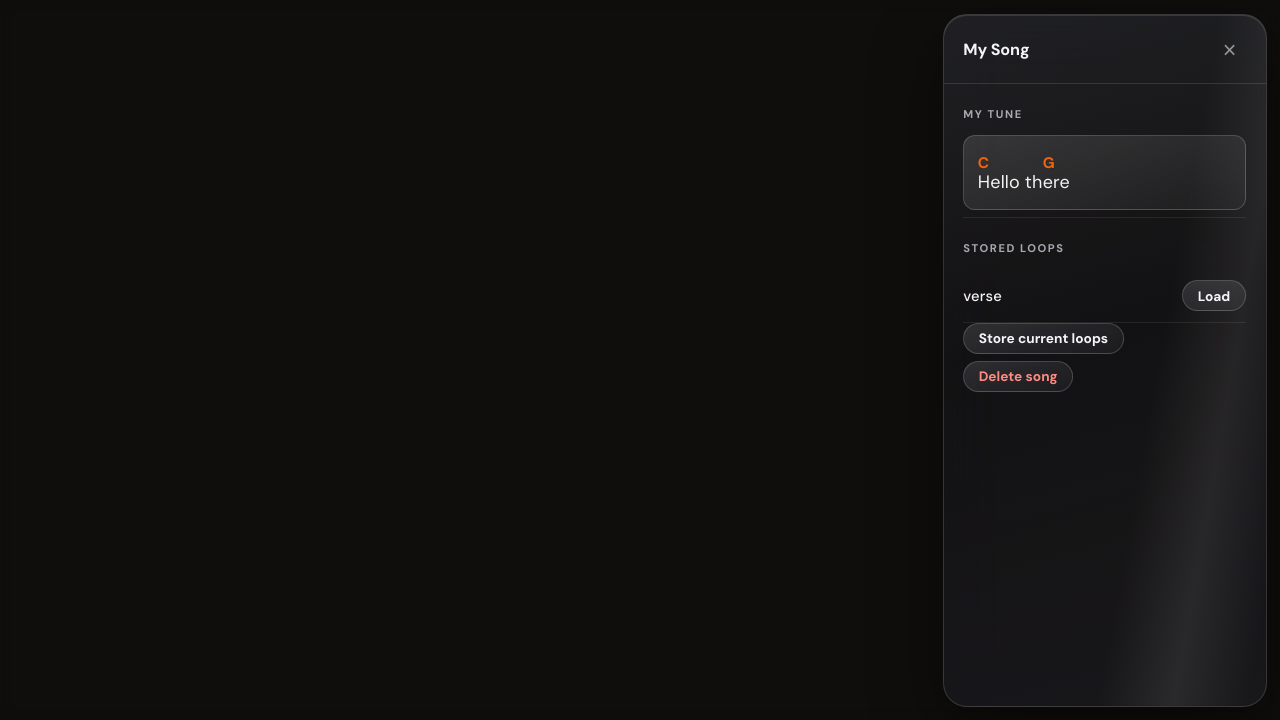
Test: MySongPanel › shows an error when handleDelete fails
The width and height of the screenshot is (1280, 720).
Expected: the heading "My Tune" is shown, [963,107,1023,121]
Click the button "Delete song".
click(1018, 376)  # box [963,361,1073,392]
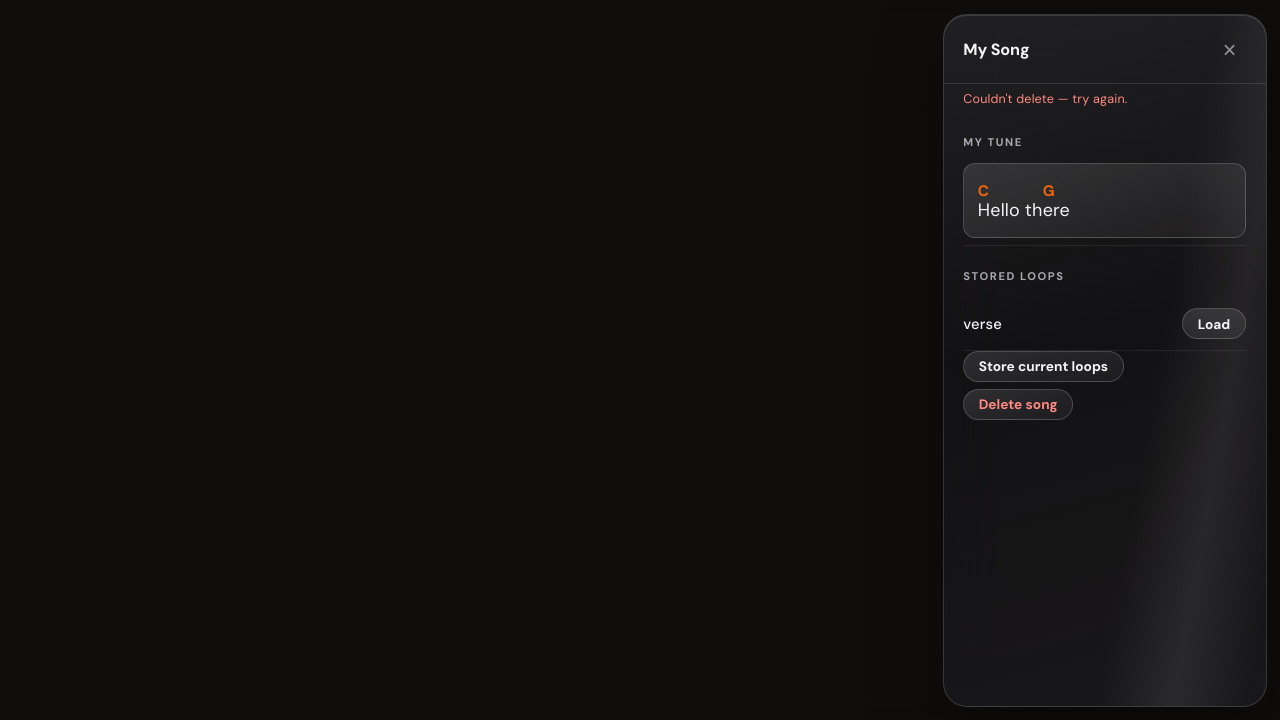
Expected: the heading "My Tune" is shown, [963,135,1023,149]
Expected: the text "Couldn't delete — try again." is shown, [963,91,1128,107]
